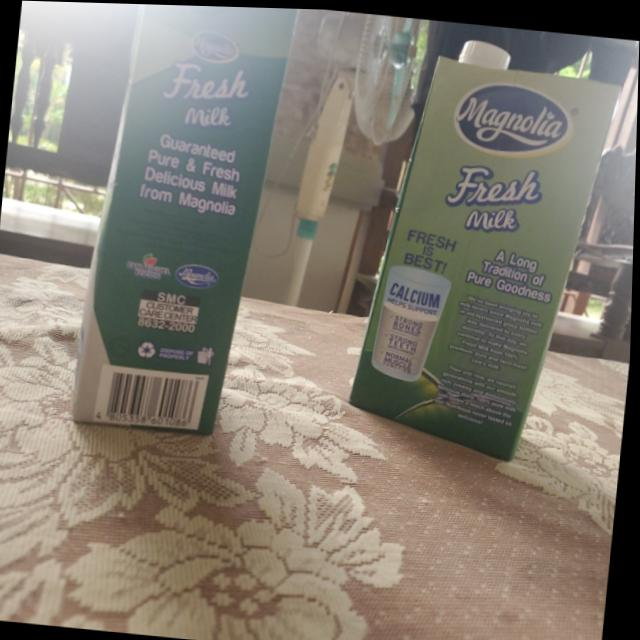milk: (342, 28, 612, 464), (71, 15, 287, 446)
